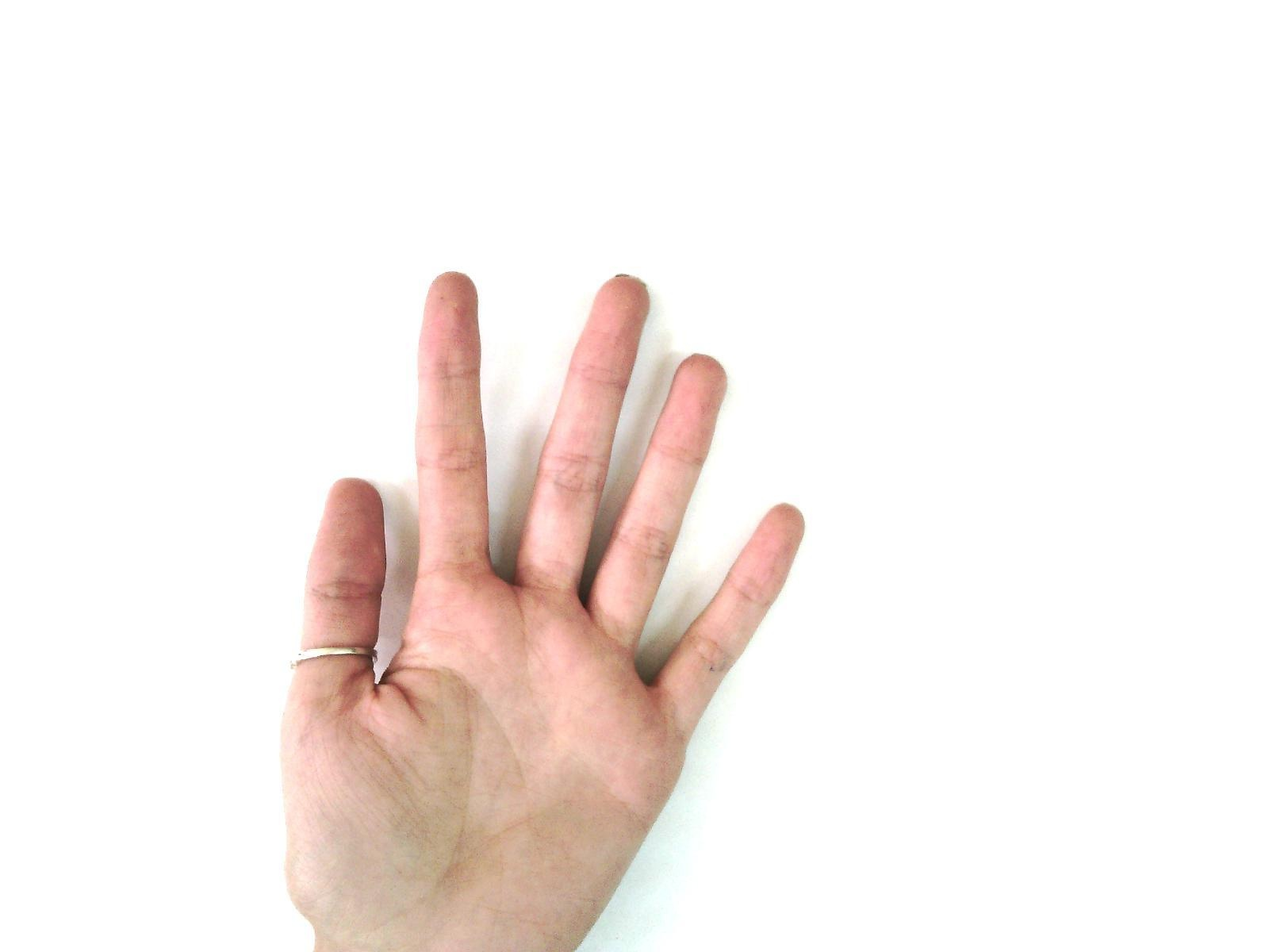open_palm: (278, 269, 808, 951)
